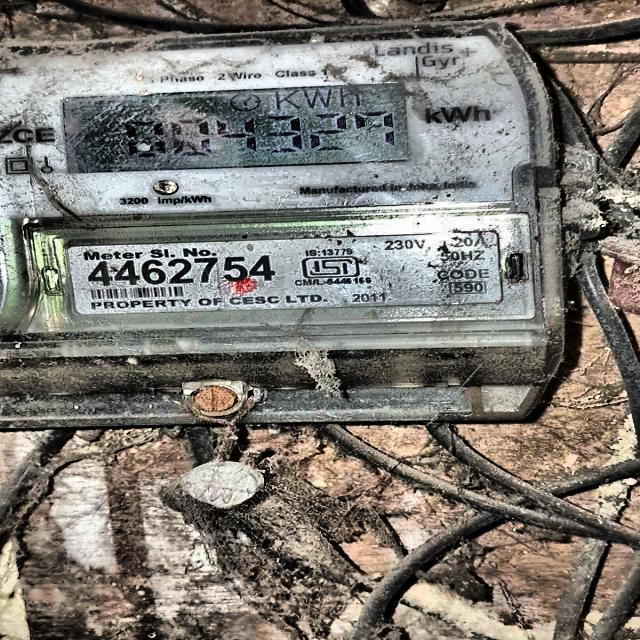Digital: (0, 27, 551, 372)
Reading: (99, 108, 413, 167)
Serial No.: (81, 260, 282, 285)
